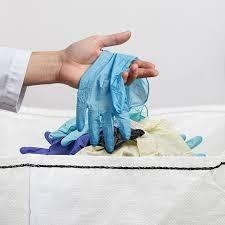Glove: (76, 51, 148, 152), (20, 132, 89, 154), (48, 118, 87, 145), (181, 134, 202, 149)
